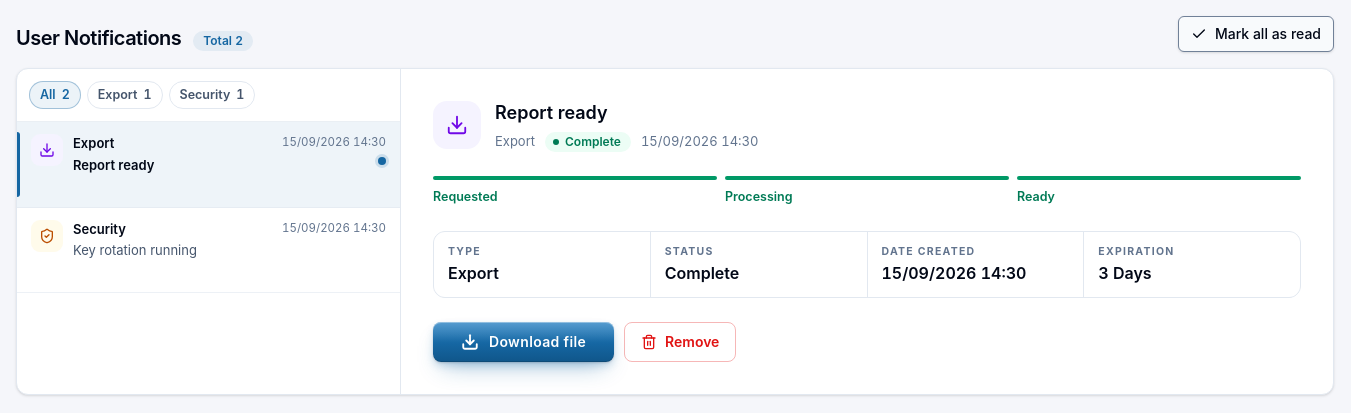
Test: UserNotificationsScreen › opens the chosen notification, filters by type and locks delete while processing
The image size is (1351, 413).
Check: the heading "Report ready" is shown, box [495,102,608,123]
Step 1. Click the option "Security Key rotation running 15/09/2026 14:30" → [47, 236], box [17,208,400,293]
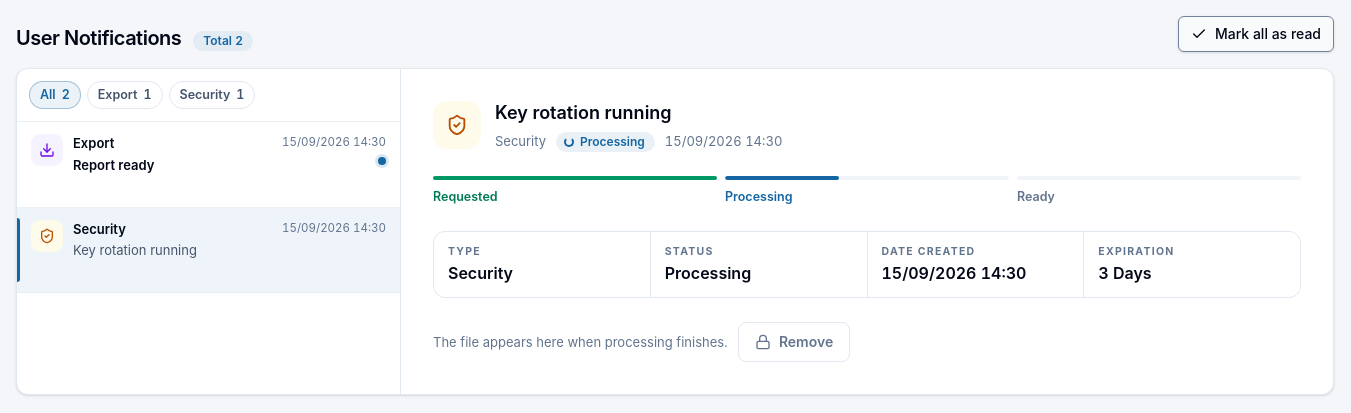
Check: the heading "Key rotation running" is shown, box [495,102,672,123]
Check: the button "Remove" is disabled, box [738,322,850,362]
Step 2. Click the button "Export 1" → [125, 95], box [87,81,162,109]
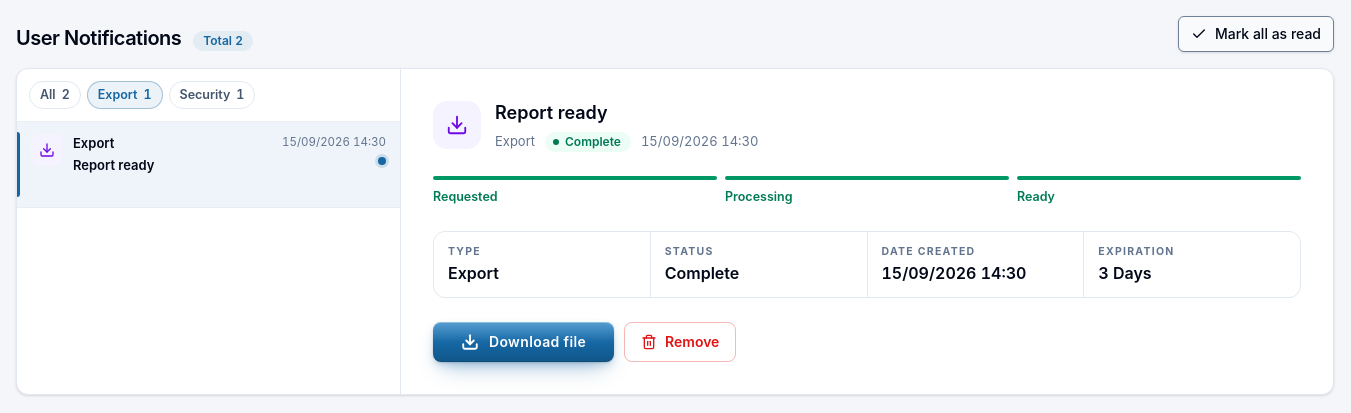
Check: the option "Key rotation running" is gone
Check: the heading "Report ready" is shown, box [495,102,608,123]
